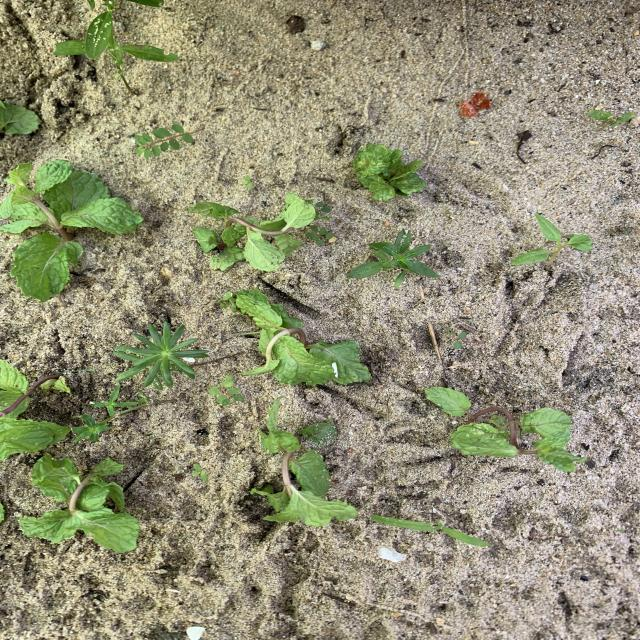crop: (0, 162, 142, 300), (423, 386, 586, 471), (251, 398, 357, 524), (228, 290, 370, 384), (20, 456, 139, 551), (190, 194, 318, 271), (1, 361, 71, 459), (353, 144, 424, 199), (1, 101, 39, 134)
weed: (54, 10, 178, 81), (113, 321, 207, 389), (349, 231, 439, 279), (512, 215, 591, 267), (371, 515, 488, 547), (134, 124, 194, 158), (91, 388, 139, 416), (72, 415, 109, 442), (301, 419, 336, 446), (210, 375, 242, 404), (589, 110, 634, 127), (446, 326, 477, 348), (305, 226, 335, 243), (193, 464, 207, 481), (311, 201, 330, 211), (244, 176, 253, 187)
